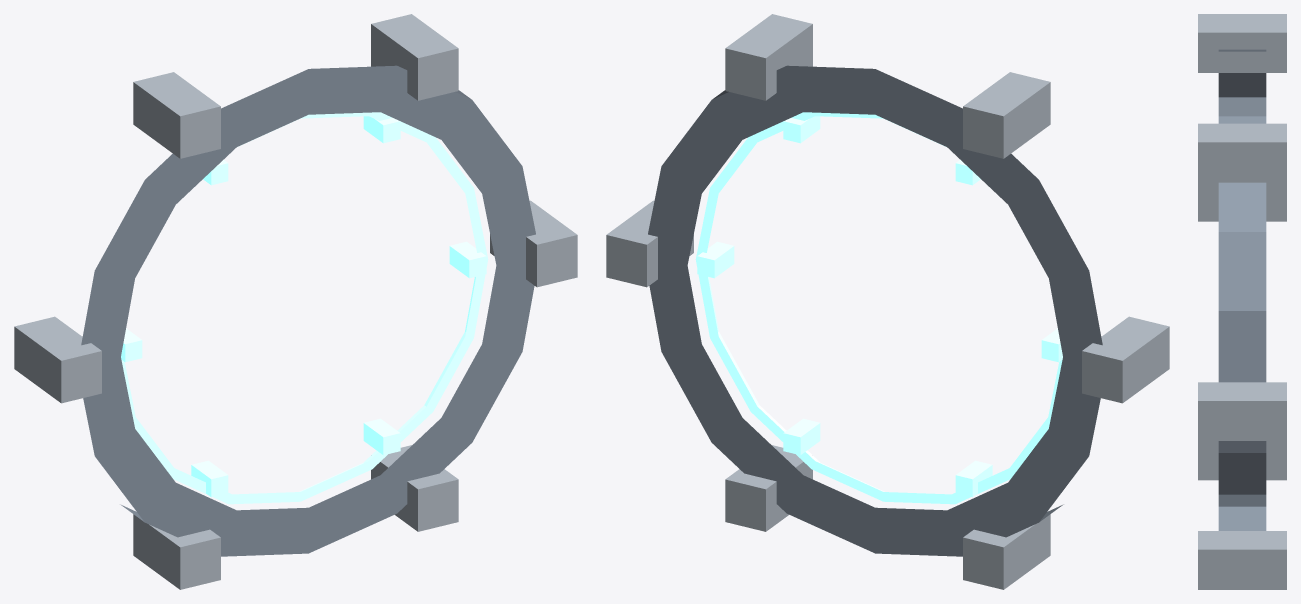
File: jump-gate.glb
The picture shows the model from 3 angles, left to right: view 1: azimuth 30°, elevation 25°; view 2: azimuth 150°, elevation 25°; view 3: azimuth 270°, elevation 25°; orthographic projection. The views are drawn at different scales.
Bounding box in the file's own units: 16.5 × 14.8 × 2.6.
